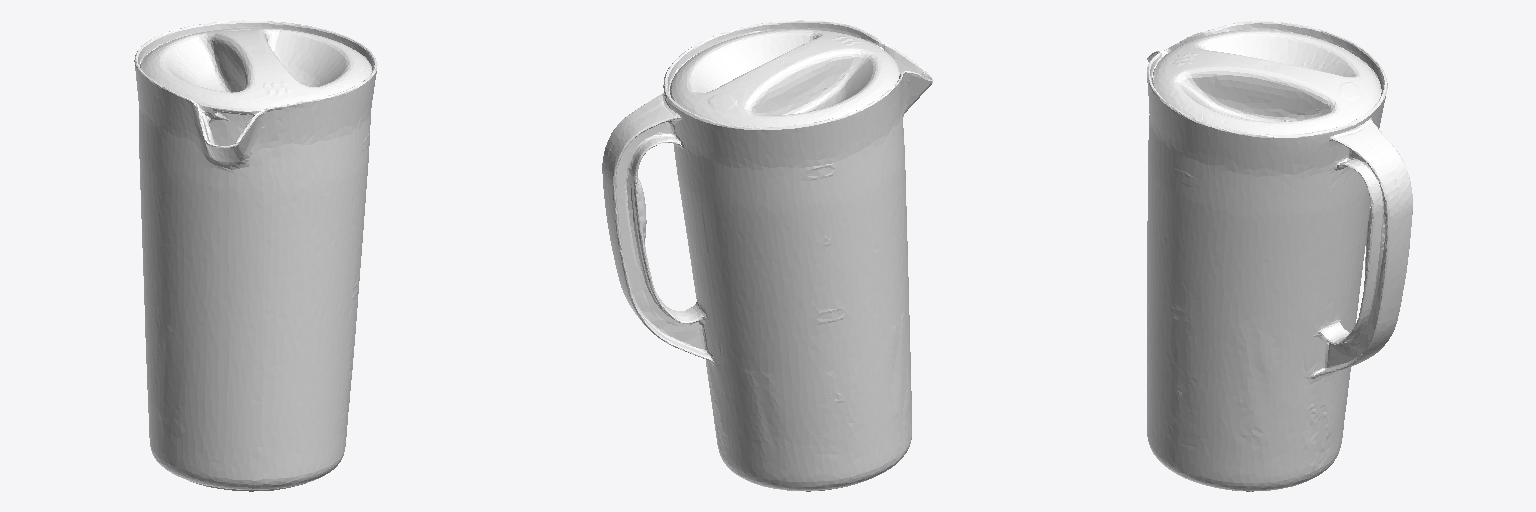
URDF robot description (pitcher_base):
<robot name="pitcher_base">
    <link name="base_link">
        <visual>
            <origin xyz="-0.0 0.0 0.0" rpy="0.0 0.0 0.0" />
            <geometry>
                <mesh filename="pitcher_base/textured.obj" scale="1 1 1" />
            </geometry>
            <material name="texture">
                <color rgba="1.0 1.0 1.0 1.0" />
            </material>
        </visual>
        <collision>
            <origin xyz="-0.0 0.0 0.0" rpy="0.0 0.0 0.0" />
            <geometry>
                <mesh filename="pitcher_base/textured_coacd_0.stl" scale="1 1 1" />
            </geometry>
        </collision>
        <collision>
            <origin xyz="-0.0 0.0 0.0" rpy="0.0 0.0 0.0" />
            <geometry>
                <mesh filename="pitcher_base/textured_coacd_1.stl" scale="1 1 1" />
            </geometry>
        </collision>
        <collision>
            <origin xyz="-0.0 0.0 0.0" rpy="0.0 0.0 0.0" />
            <geometry>
                <mesh filename="pitcher_base/textured_coacd_2.stl" scale="1 1 1" />
            </geometry>
        </collision>
        <collision>
            <origin xyz="-0.0 0.0 0.0" rpy="0.0 0.0 0.0" />
            <geometry>
                <mesh filename="pitcher_base/textured_coacd_3.stl" scale="1 1 1" />
            </geometry>
        </collision>
        <collision>
            <origin xyz="-0.0 0.0 0.0" rpy="0.0 0.0 0.0" />
            <geometry>
                <mesh filename="pitcher_base/textured_coacd_4.stl" scale="1 1 1" />
            </geometry>
        </collision>
        <inertial>
            <mass value="0.178" />
            <inertia ixx="1e-3" ixy="0.0" ixz="0.0" iyy="1e-3" iyz="0.0" izz="1e-3" />
        </inertial>
    </link>
</robot>

--- Render facts (derived) ---
3 views of the same robot in one strip: view 1: azimuth 30°, elevation 25°; view 2: azimuth 150°, elevation 25°; view 3: azimuth 270°, elevation 25° (orthographic).
Robot: pitcher_base — 1 links, 0 joints (none); root link base_link; default pose: all joints at 0.
Links seen in each view (by area): view 1: base_link; view 2: base_link; view 3: base_link.
Link boxes in pixels (x1,y1,x2,y2): base_link: [134, 20, 377, 491]; base_link: [602, 20, 933, 491]; base_link: [1147, 21, 1412, 491].
Size in the robot's own frame: 0.1428 by 0.1461 by 0.2456 metres.
Meshes: 1 distinct files referenced, 1 mesh visuals loaded (1 OBJ).